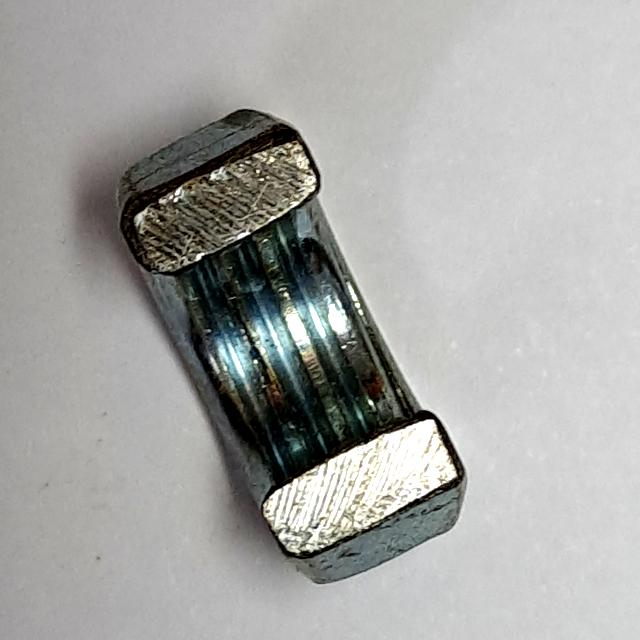Side-Fracture: (102, 96, 491, 598)
